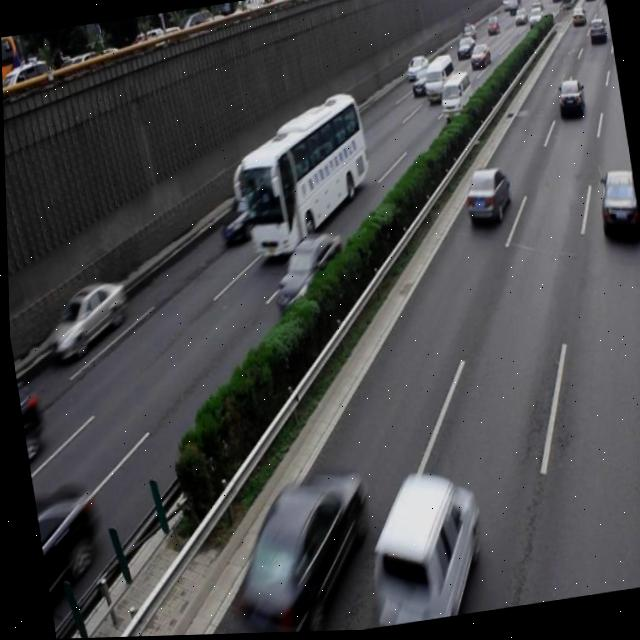car: (213, 466, 377, 635), (352, 466, 486, 630), (30, 479, 100, 601), (38, 276, 130, 362), (264, 230, 350, 315), (590, 167, 640, 247), (212, 182, 275, 245), (458, 164, 512, 229), (14, 380, 45, 455), (552, 79, 583, 123)
van: (222, 91, 377, 260)
